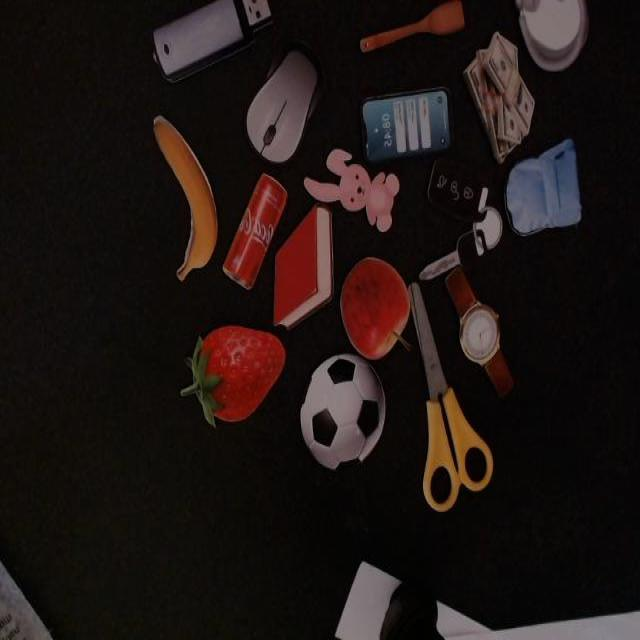Other Objects: (410, 281, 495, 512), (235, 31, 341, 177), (454, 19, 554, 166), (420, 139, 517, 263), (148, 0, 277, 88), (153, 116, 218, 281), (497, 136, 591, 247), (301, 355, 384, 469), (445, 265, 515, 399), (304, 147, 401, 232), (358, 0, 470, 72), (223, 172, 289, 289), (340, 256, 412, 360), (361, 85, 452, 163), (360, 0, 466, 53), (516, 0, 588, 71), (418, 243, 466, 291)
